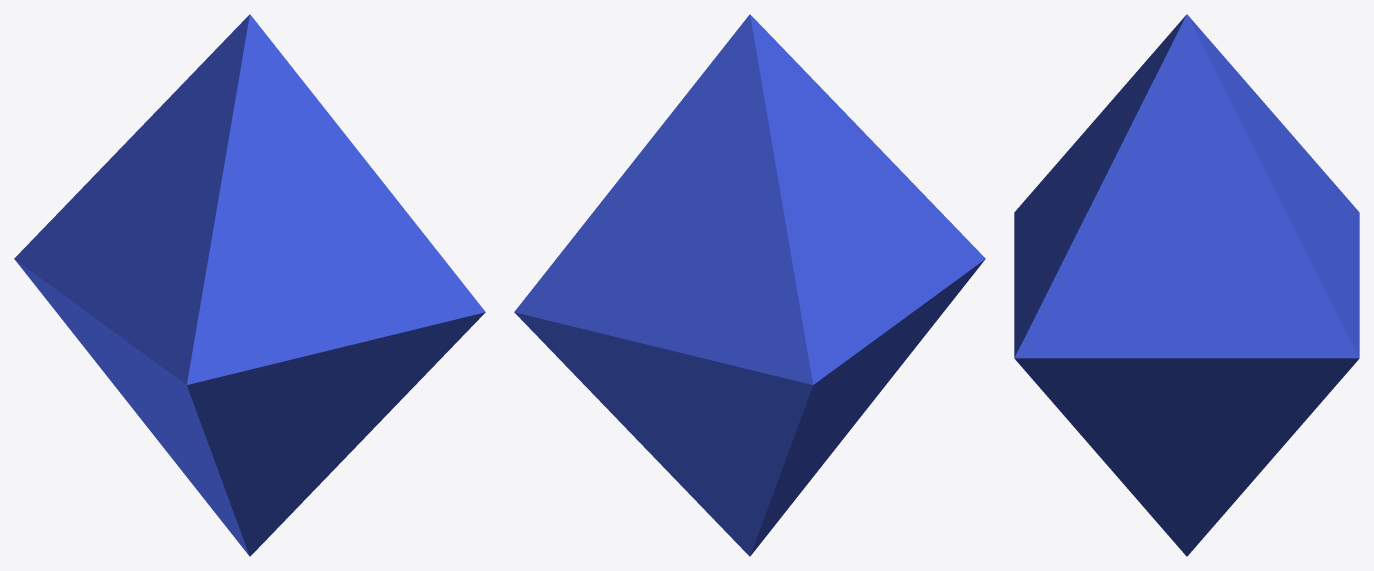
File: diamond blue.glb
3 renders of one model, left to right at view 1: azimuth 30°, elevation 25°; view 2: azimuth 150°, elevation 25°; view 3: azimuth 270°, elevation 25°, orthographic.
Visible parts, largest first — view 1: diamond; view 2: diamond; view 3: diamond.
Boxes of the visible parts, box(x1,y1,x2,y2) form: diamond: box(14, 14, 485, 556); diamond: box(514, 14, 985, 556); diamond: box(1014, 14, 1359, 556).
Size of what is drawn, in the model's own units: 0.5 by 0.8674 by 0.5.
